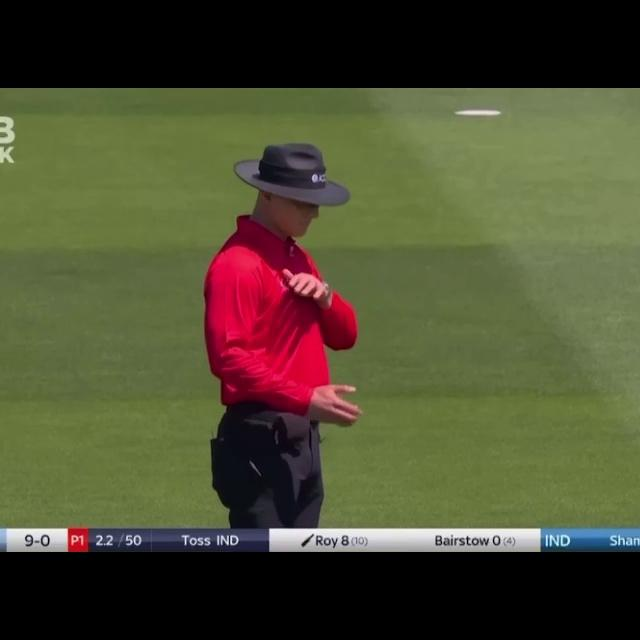umpire: (194, 121, 377, 536)
